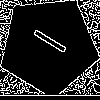I: (23, 21, 68, 57)
